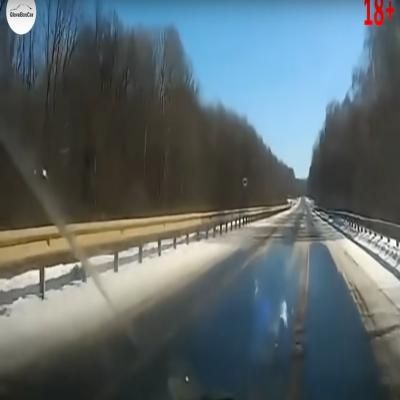iced-road: (0, 202, 382, 400)
